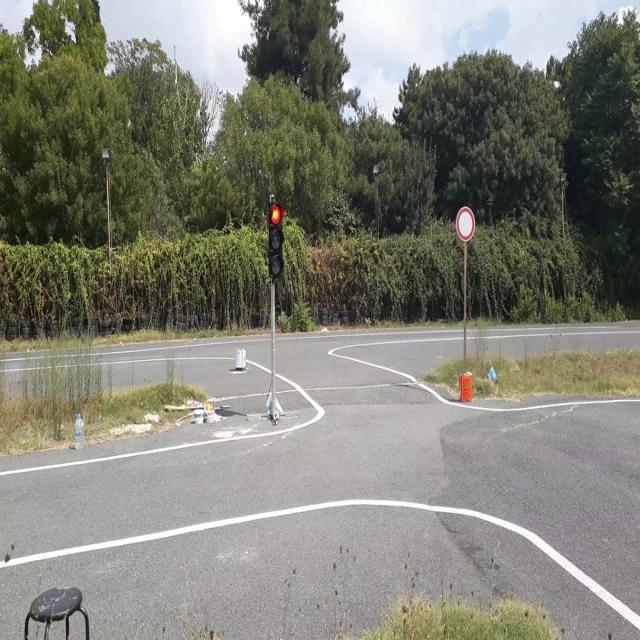kirmizi: (269, 202, 283, 276)
